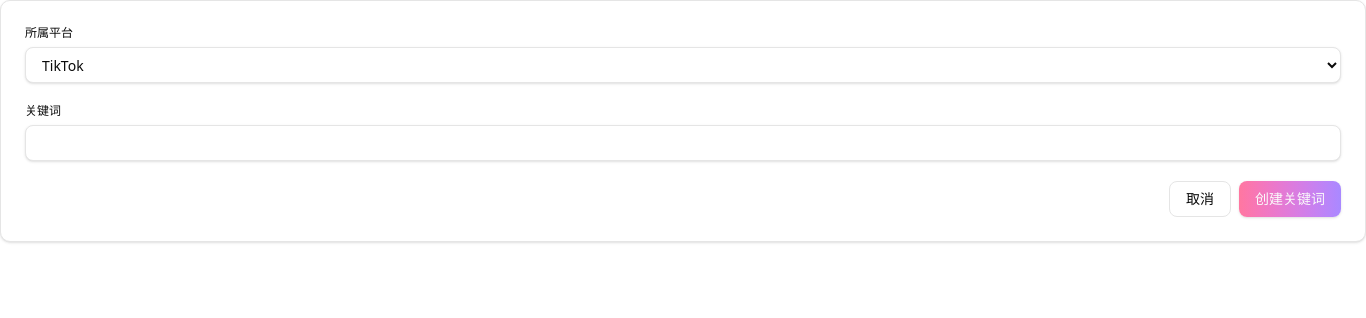
Test: KeywordForm › 平台不存在或禁用错误保留平台和输入
The width and height of the screenshot is (1366, 318).
Type "保留我" into the field labelled "关键词" at (683, 143), box [25, 125, 1341, 161]
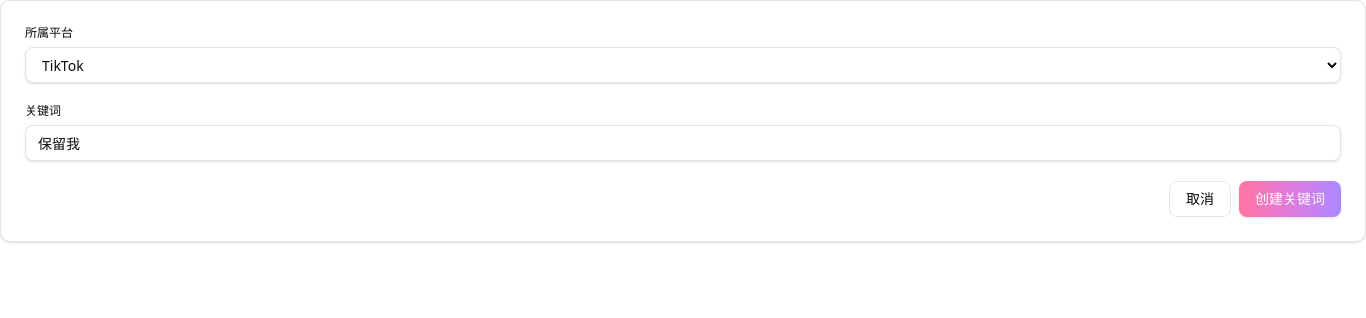
Submit the form "创建关键词", box [25, 25, 1341, 217]
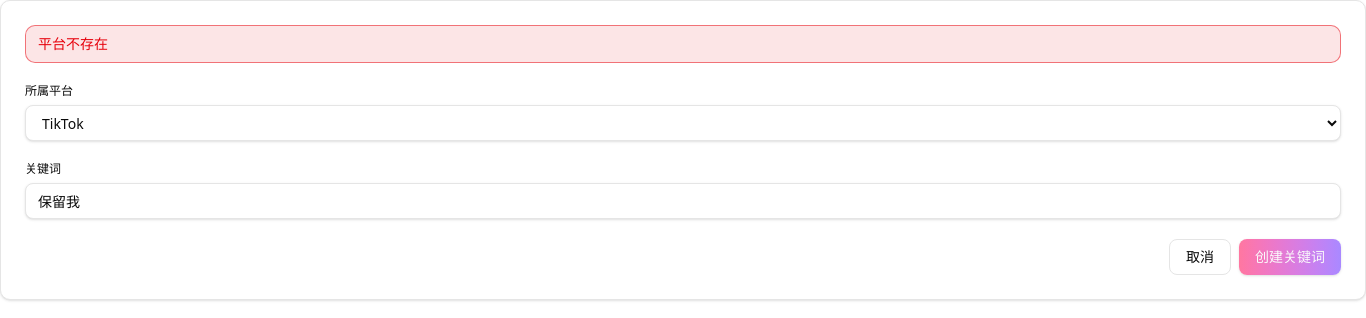
Expected: the dropdown labelled "所属平台" shows "TikTok", [25, 105, 1341, 141]
Result: the message reads "平台不存在" at [38, 34, 108, 53]
